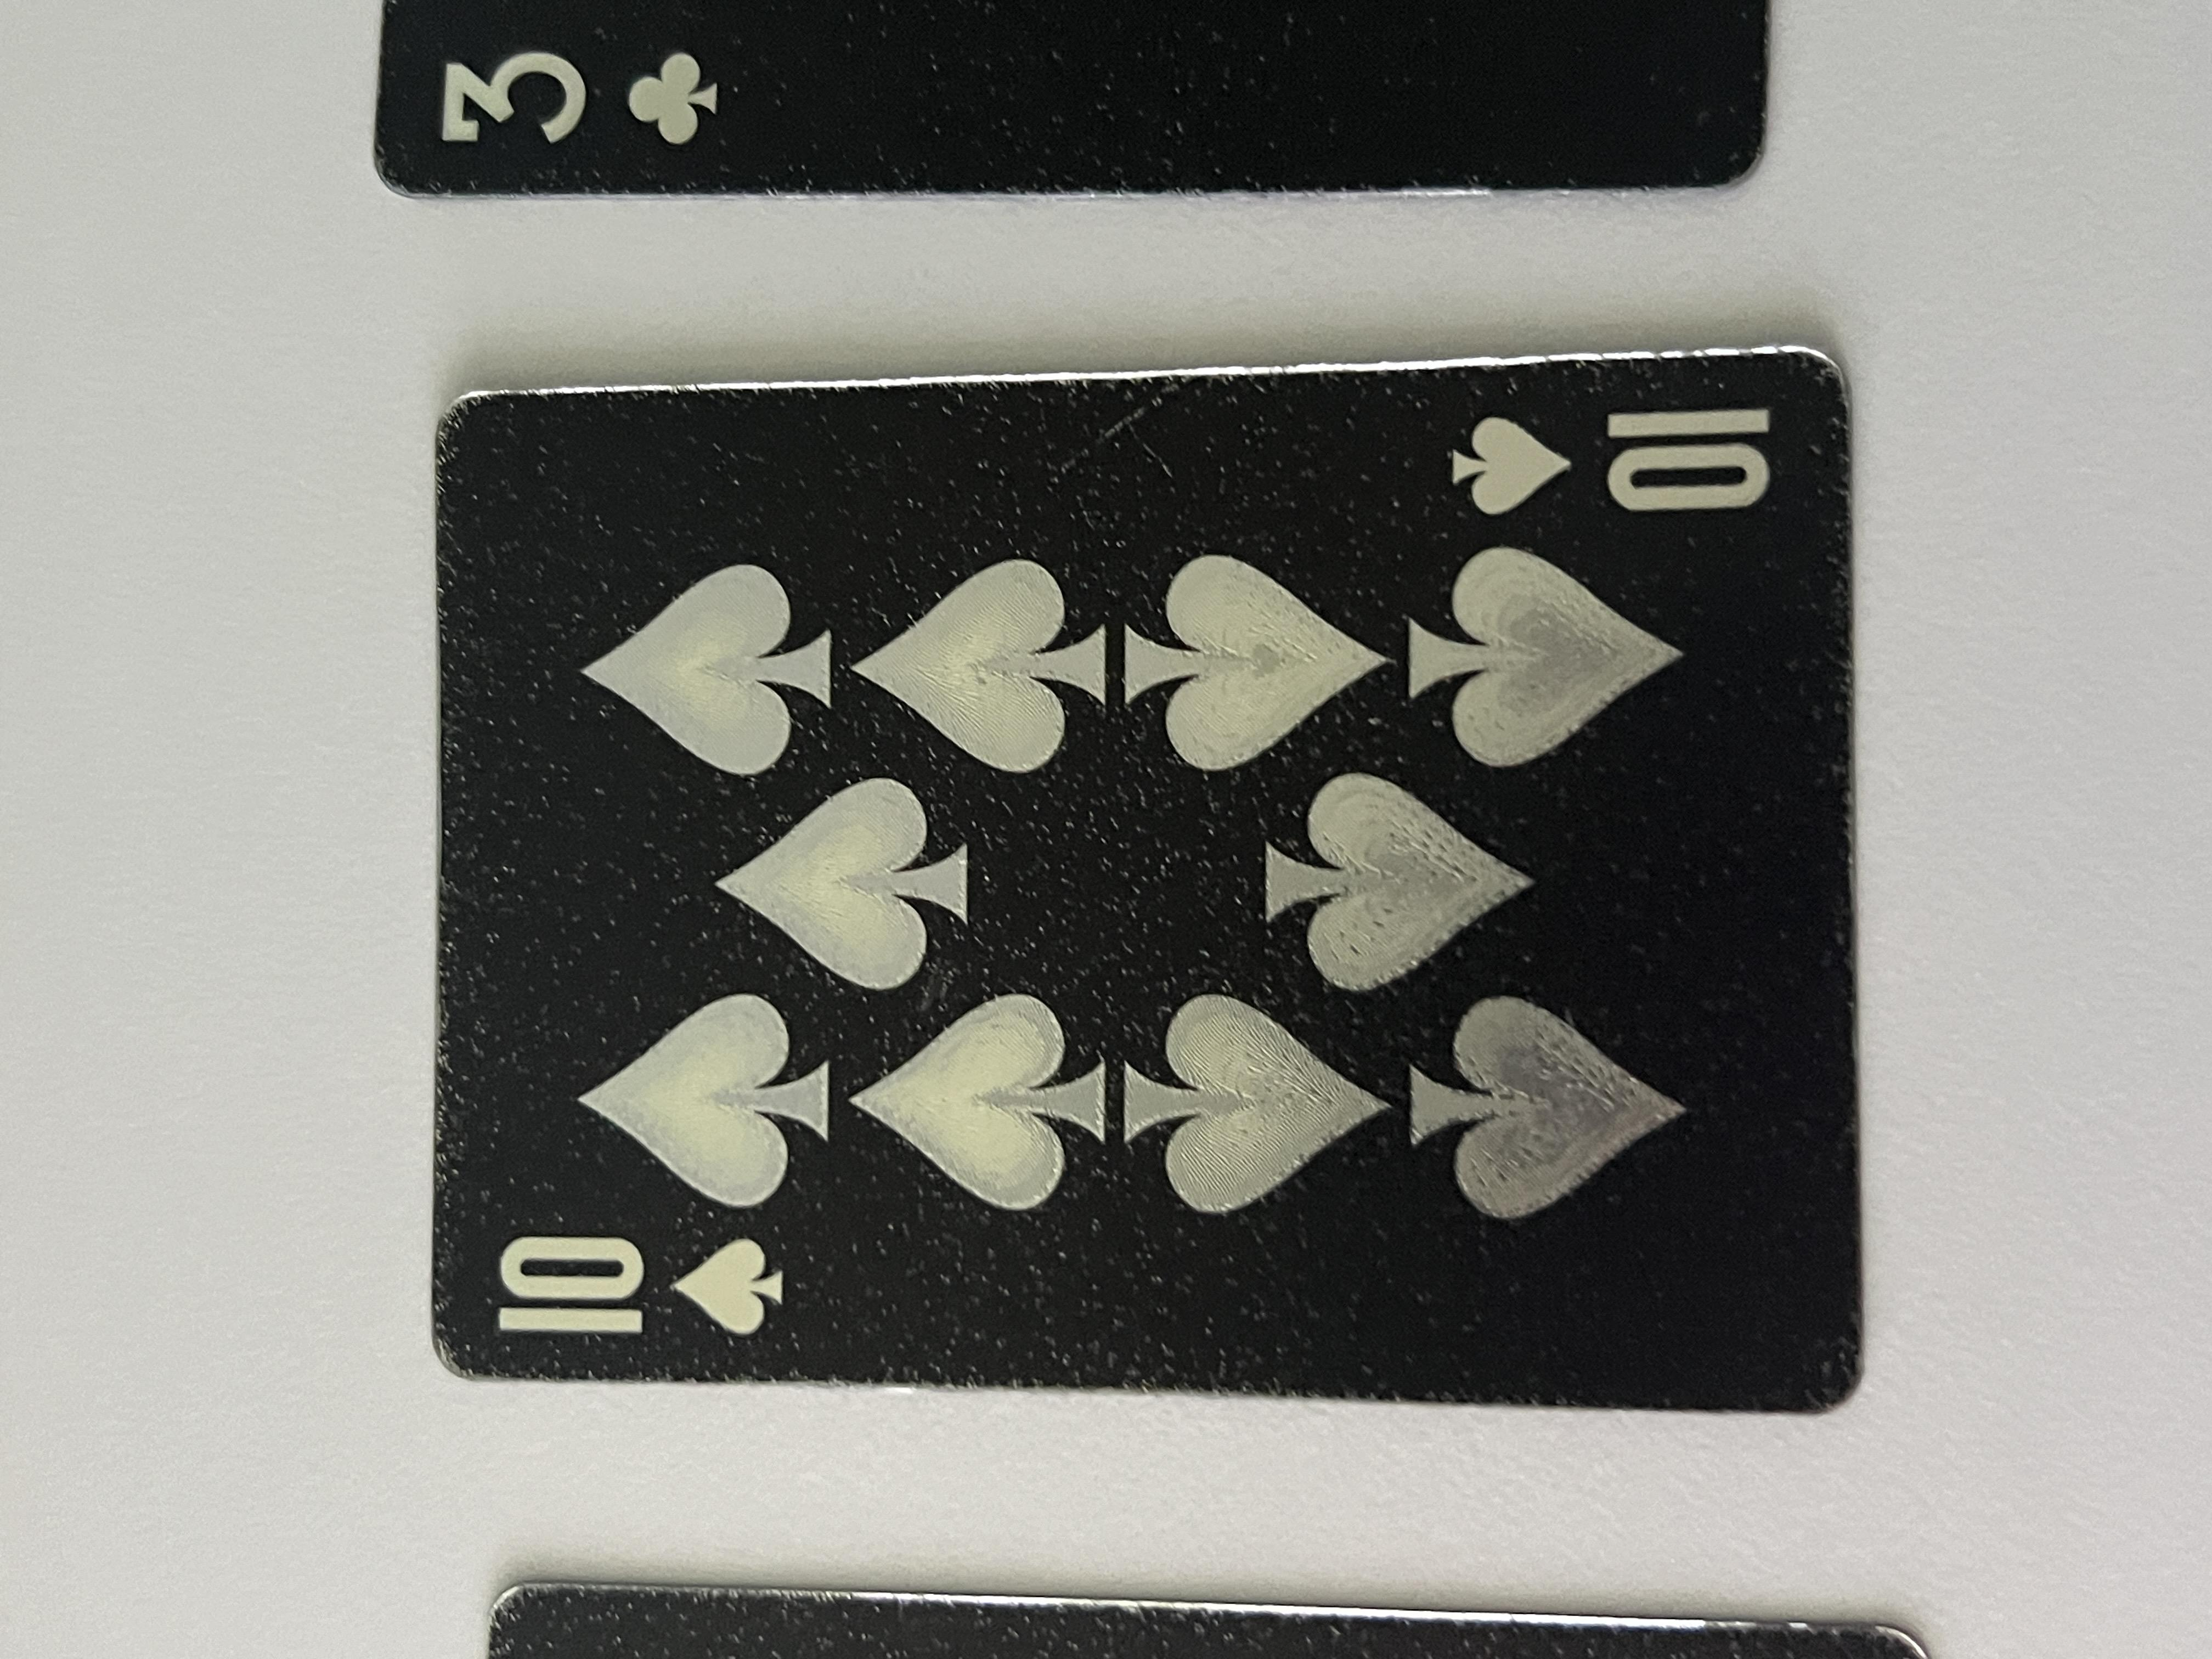10S: (1510, 1070, 1712, 1352), (395, 357, 589, 605)
3C: (1986, 310, 2191, 551)
